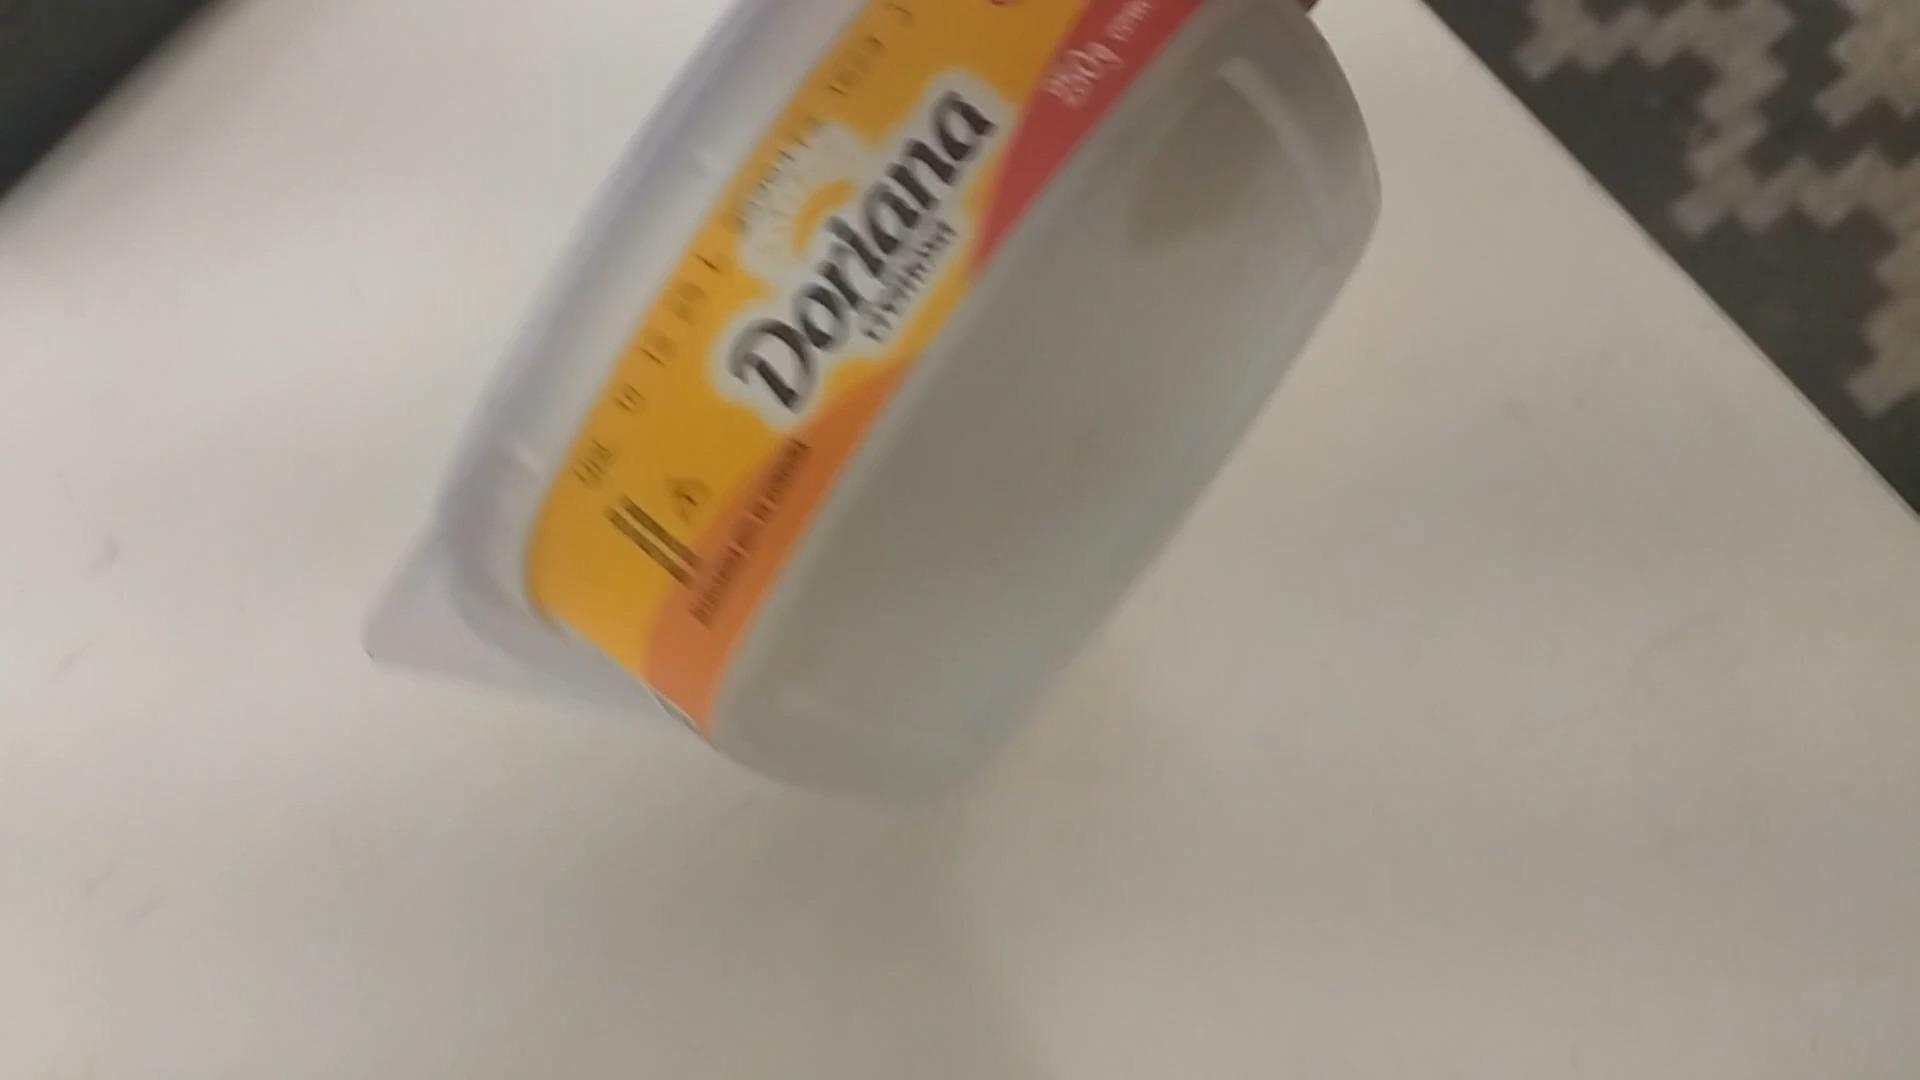butter: (381, 9, 1362, 800)
